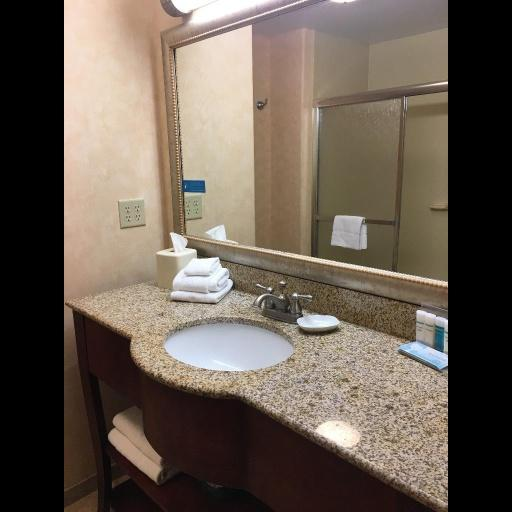clean_sink: (65, 243, 445, 506)
folded_towel: (106, 405, 179, 492), (163, 256, 235, 306)
